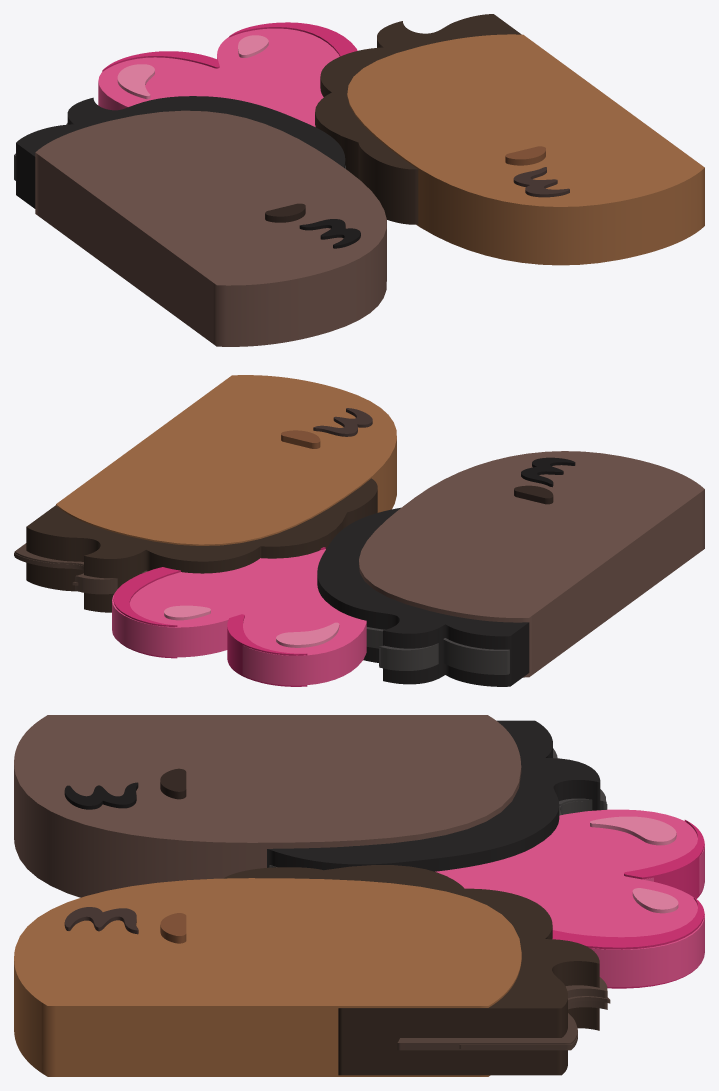
File: emoji_u1f9d1_1f3ff_200d_2764_200d_1f48b_200d_1f9d1_1f3fe.glb
The picture shows the model from 3 angles, top to bottom: view 1: azimuth 30°, elevation 25°; view 2: azimuth 150°, elevation 25°; view 3: azimuth 270°, elevation 25°; orthographic projection. The views are drawn at different scales.
Visible parts, largest first — view 1: emoji_u1f9d1_1f3ff_200d_2764_200d_1f48b_200d_1f9d1_1f3fe; view 2: emoji_u1f9d1_1f3ff_200d_2764_200d_1f48b_200d_1f9d1_1f3fe; view 3: emoji_u1f9d1_1f3ff_200d_2764_200d_1f48b_200d_1f9d1_1f3fe.
Part boxes in pixels (left/top/right/bottom): emoji_u1f9d1_1f3ff_200d_2764_200d_1f48b_200d_1f9d1_1f3fe: left=14, top=14, right=704, bottom=346; emoji_u1f9d1_1f3ff_200d_2764_200d_1f48b_200d_1f9d1_1f3fe: left=14, top=375, right=704, bottom=686; emoji_u1f9d1_1f3ff_200d_2764_200d_1f48b_200d_1f9d1_1f3fe: left=14, top=715, right=704, bottom=1076.
Size of the model in its own units: 0.0339 by 0.0048 by 0.0336.
